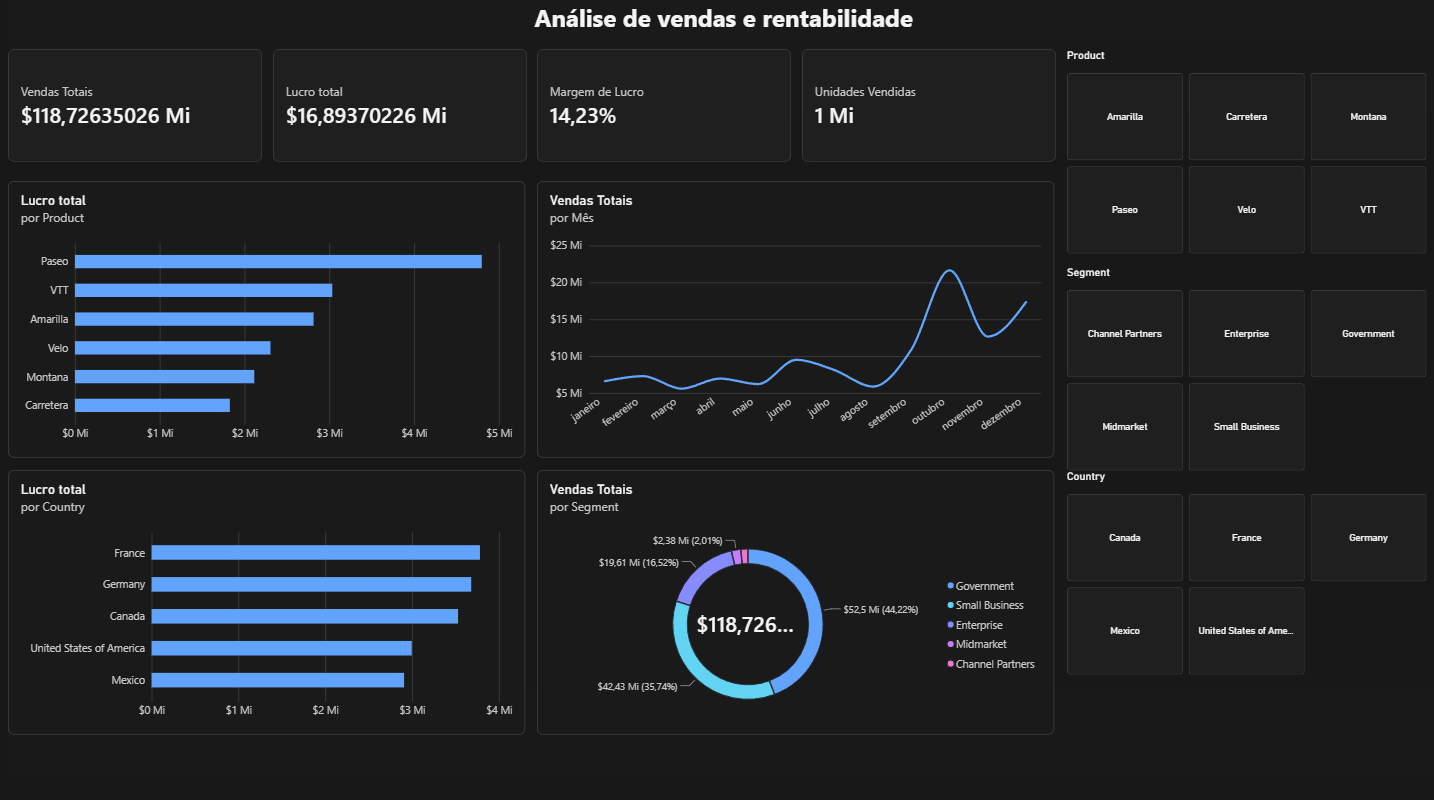

The page's visual inventory and layout, read from the dashboard file:
{"tool":"powerbi","page":{"name":"Página 1","canvas":[1920,1080],"ordinal":0},"visuals":[{"type":"textbox","box":[16,16,1904,48],"z":0},{"type":"cardVisual","fields":{"Data":["financials.Vendas Totais"]},"box":[16,80,338.5,150.3],"z":1000},{"type":"cardVisual","fields":{"Data":["financials.Lucro total"]},"box":[368,80,338.5,150.3],"z":2000},{"type":"cardVisual","fields":{"Data":["financials.Margem de Lucro"]},"box":[720,80,338.5,150.3],"z":3000},{"type":"cardVisual","fields":{"Data":["financials.Unidades Vendidas"]},"box":[1072,80,338.5,150.3],"z":4000},{"type":"lineChart","fields":{"Category":["financials.Date.Variação.Hierarquia de datas.Ano","financials.Date.Variação.Hierarquia de datas.Trimestre","financials.Date.Variação.Hierarquia de datas.Mês","financials.Date.Variação.Hierarquia de datas.Dia"],"Y":["financials.Vendas Totais"]},"box":[720,256,688,368],"z":5000},{"type":"clusteredBarChart","fields":{"Category":["financials.Product"],"Y":["financials.Lucro total"]},"box":[16,256,688,368],"z":6000},{"type":"donutChart","fields":{"Category":["financials.Segment"],"Y":["financials.Vendas Totais"]},"box":[720,640,688,352],"z":7000},{"type":"clusteredBarChart","fields":{"Category":["financials.Country"],"Y":["financials.Lucro total"]},"box":[16,640,688,352],"z":8000},{"type":"advancedSlicerVisual","fields":{"Values":["financials.Country"]},"box":[1424,688,480,304],"z":9000},{"type":"advancedSlicerVisual","fields":{"Values":["financials.Segment"]},"box":[1424,384,480,304],"z":10000},{"type":"advancedSlicerVisual","fields":{"Values":["financials.Product"]},"box":[1424,80,480,304],"z":11000}]}

Visuals, with their boxes in screenshot pixels (x1, y1, x2, y2), scaled from the page's 1920x1080 canvas onto the 1434x800 screenshot:
textbox: bbox=[12, 12, 1433, 47]
cardVisual - financials.Vendas Totais: bbox=[12, 59, 265, 171]
cardVisual - financials.Lucro total: bbox=[275, 59, 528, 171]
cardVisual - financials.Margem de Lucro: bbox=[538, 59, 791, 171]
cardVisual - financials.Unidades Vendidas: bbox=[801, 59, 1053, 171]
lineChart - financials.Date.Variação.Hierarquia de datas.Ano x financials.Date.Variação.Hierarquia de datas.Trimestre: bbox=[538, 190, 1052, 462]
clusteredBarChart - financials.Product x financials.Lucro total: bbox=[12, 190, 526, 462]
donutChart - financials.Segment x financials.Vendas Totais: bbox=[538, 474, 1052, 735]
clusteredBarChart - financials.Country x financials.Lucro total: bbox=[12, 474, 526, 735]
advancedSlicerVisual - financials.Country: bbox=[1064, 510, 1422, 735]
advancedSlicerVisual - financials.Segment: bbox=[1064, 284, 1422, 510]
advancedSlicerVisual - financials.Product: bbox=[1064, 59, 1422, 284]
